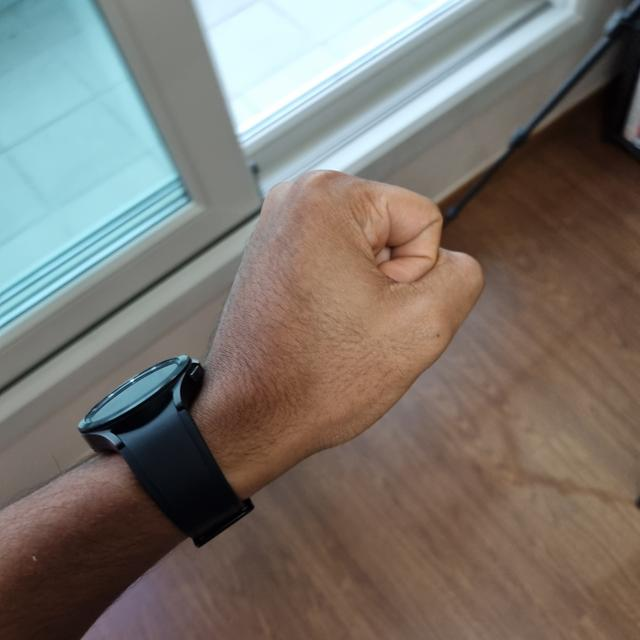Rock: (200, 170, 478, 472)
